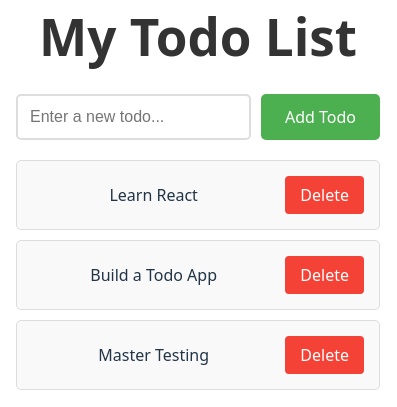
Test case: TodoList Component › deletes multiple todos
This screenshot has width=397, height=407.
Click the button "Delete" next to "Learn React" at [325, 195], box [285,176,364,214]
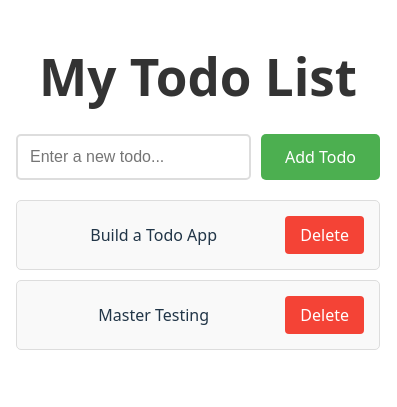
Expected: the text "Build a Todo App" is shown, [90,224,217,246]
Expected: the text "Learn React" is gone
Click the button "Delete" next to "Build a Todo App" at [325, 235], box [285,216,364,254]
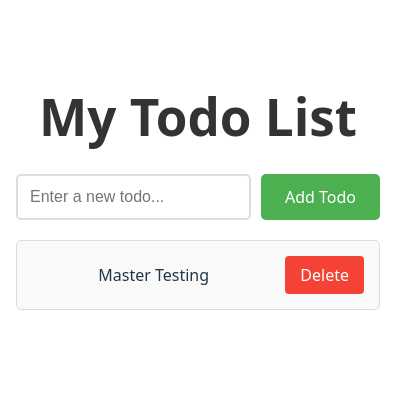
Expected: the text "Master Testing" is shown, [98,264,209,286]
Expected: the text "Build a Todo App" is gone
